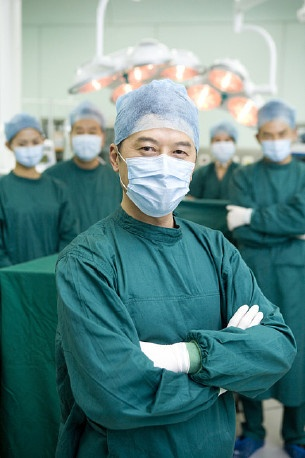Mask: (117, 133, 197, 214)
